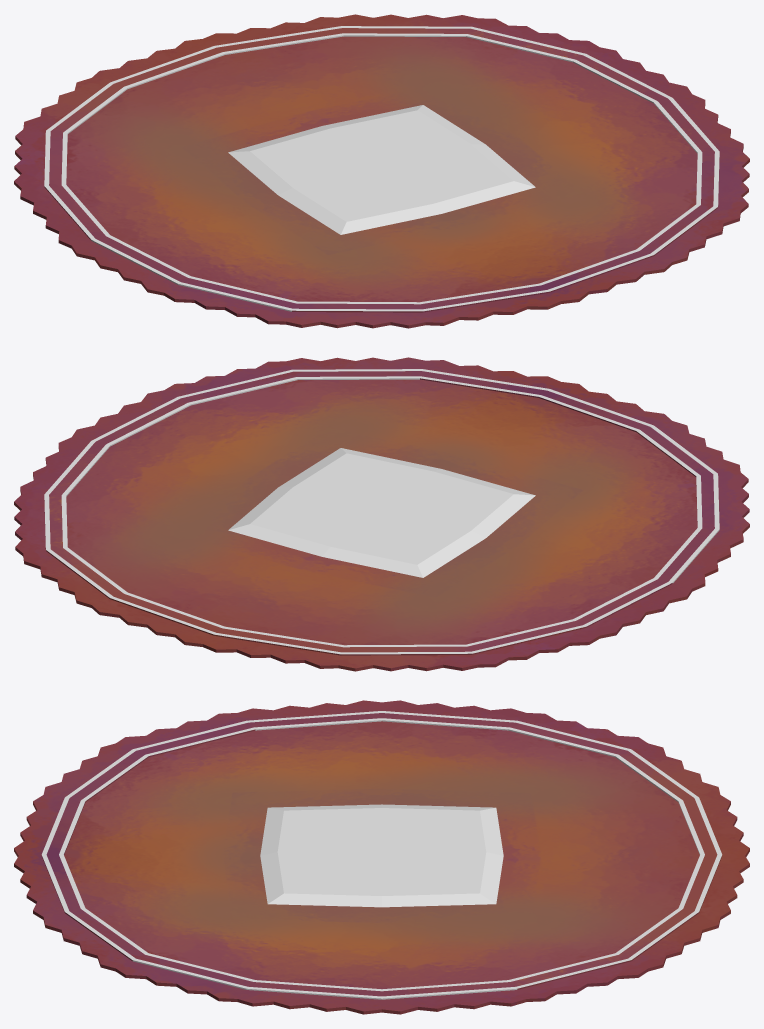
Rendered from carpet.fbx.
3 views of the same model, one above another, from view 1: azimuth 30°, elevation 25°; view 2: azimuth 150°, elevation 25°; view 3: azimuth 270°, elevation 25° (orthographic).
Visible parts, largest first — view 1: carpet; view 2: carpet; view 3: carpet.
Boxes of the visible parts, x1,y1,x2,y2 form: carpet: (14,14,749,328); carpet: (14,357,749,671); carpet: (14,700,749,1014).
Size of the model in its own units: 1439 by 15.14 by 1439.
Materials: 2 (1 with a texture image).
